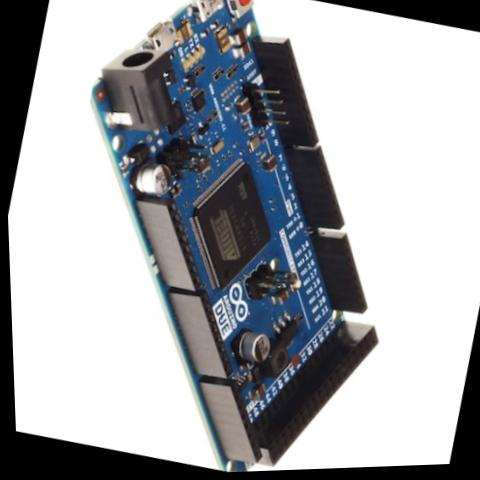Arduino-Due: (11, 0, 456, 480)
